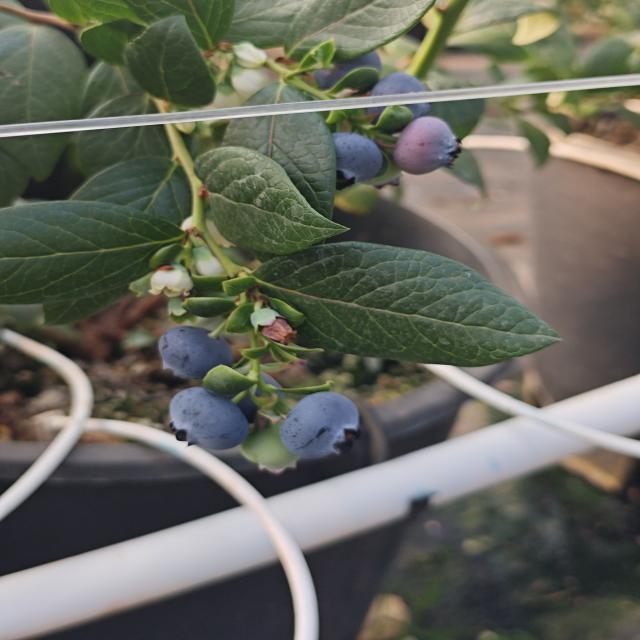ripe: (166, 388, 251, 458), (218, 369, 284, 448), (384, 112, 462, 178), (286, 389, 354, 455), (368, 60, 427, 134), (308, 41, 382, 97), (152, 326, 228, 379), (330, 137, 384, 186)
